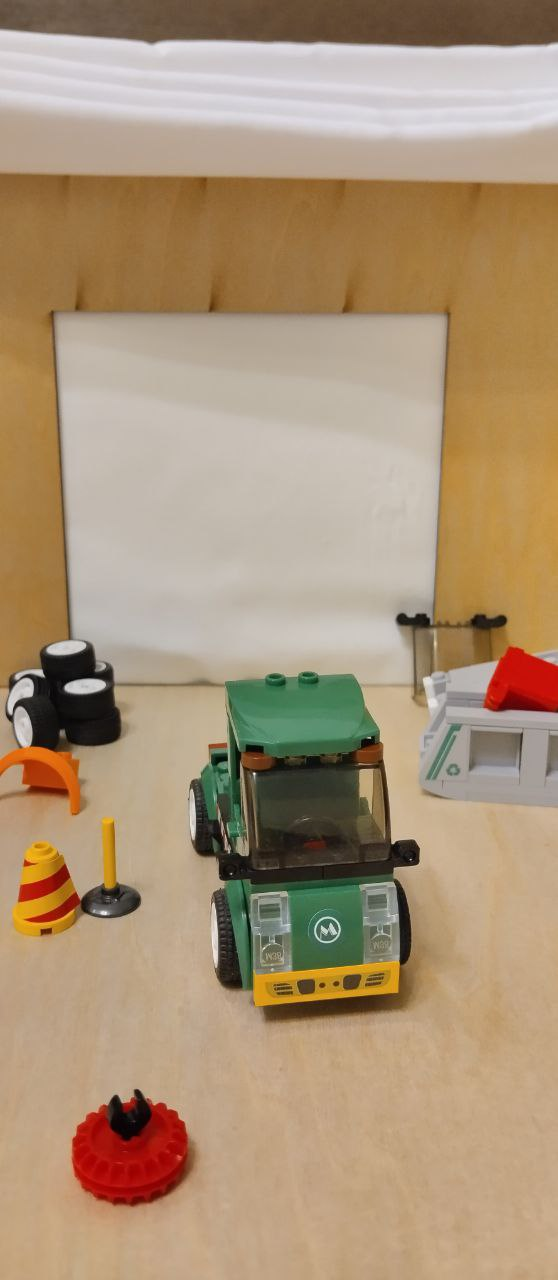Cone: (6, 837, 85, 936)
Object Red: (484, 649, 558, 712)
Truck: (182, 657, 427, 1020)
